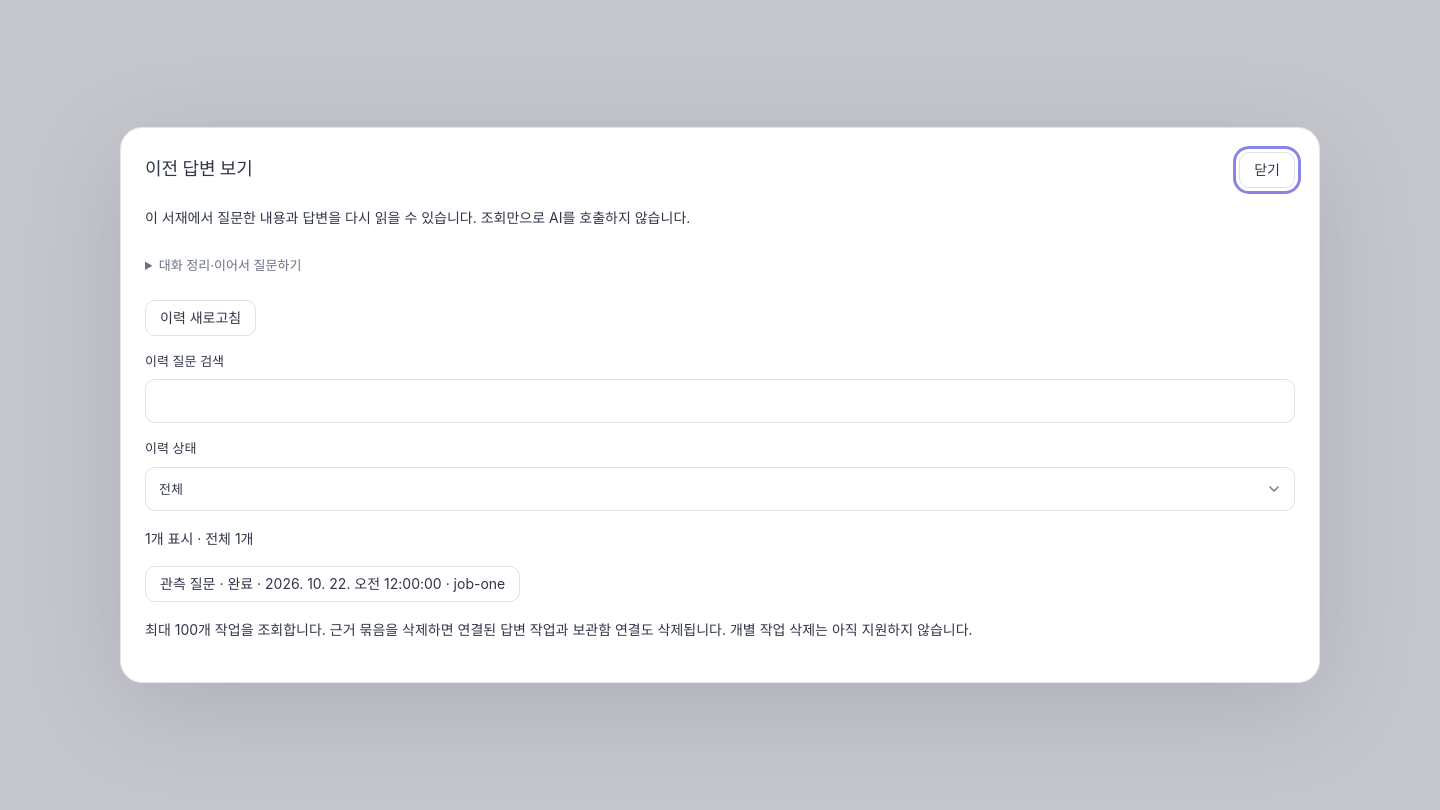
Scenario: 상세 조회 중 삭제되면 이전 답변을 지우고 오류를 표시한다
Click the button "관측 질문 · 완료". click: (333,584)
box: [145,566,520,602]
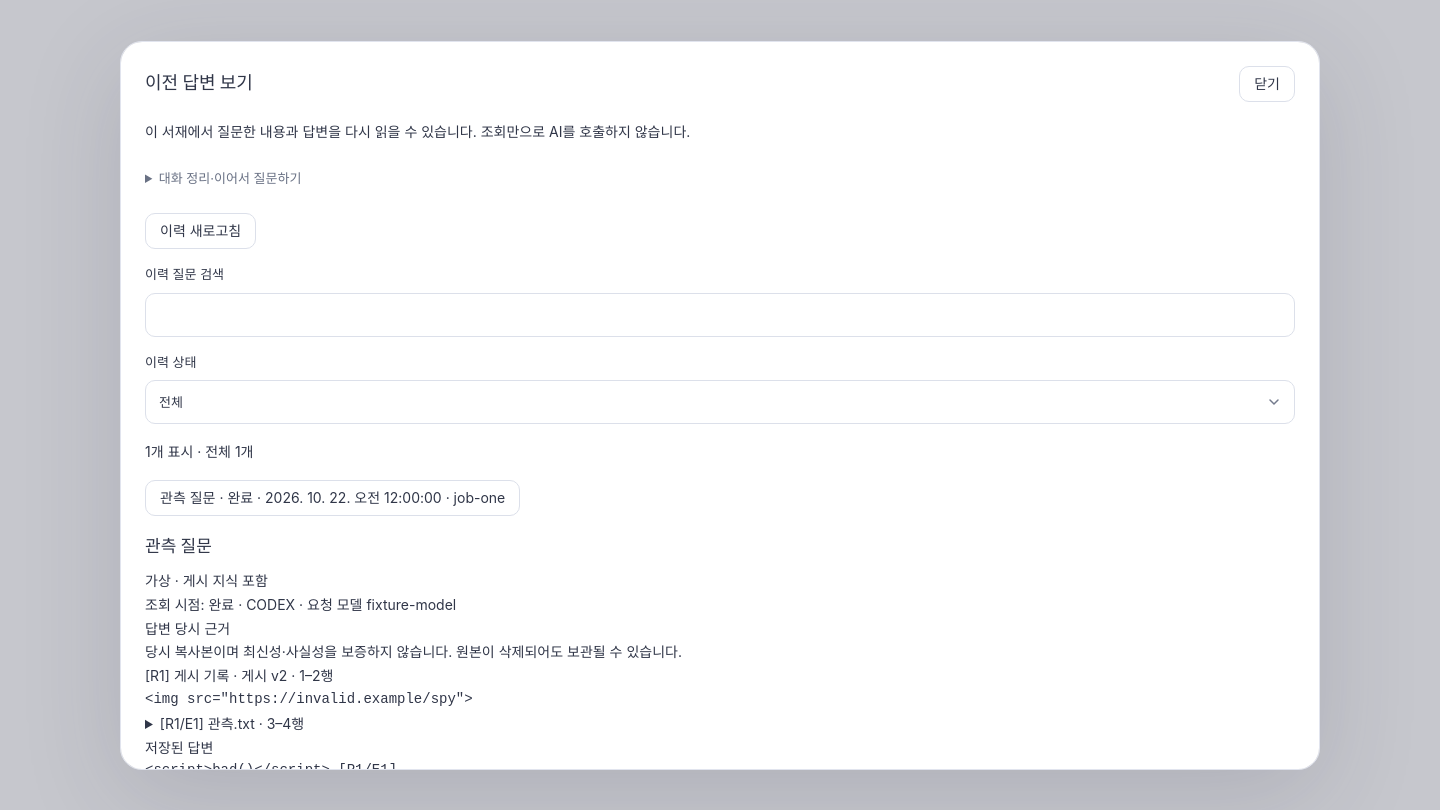
Click the button "관측 질문 · 완료". click: (333,498)
box: [145,480,520,516]
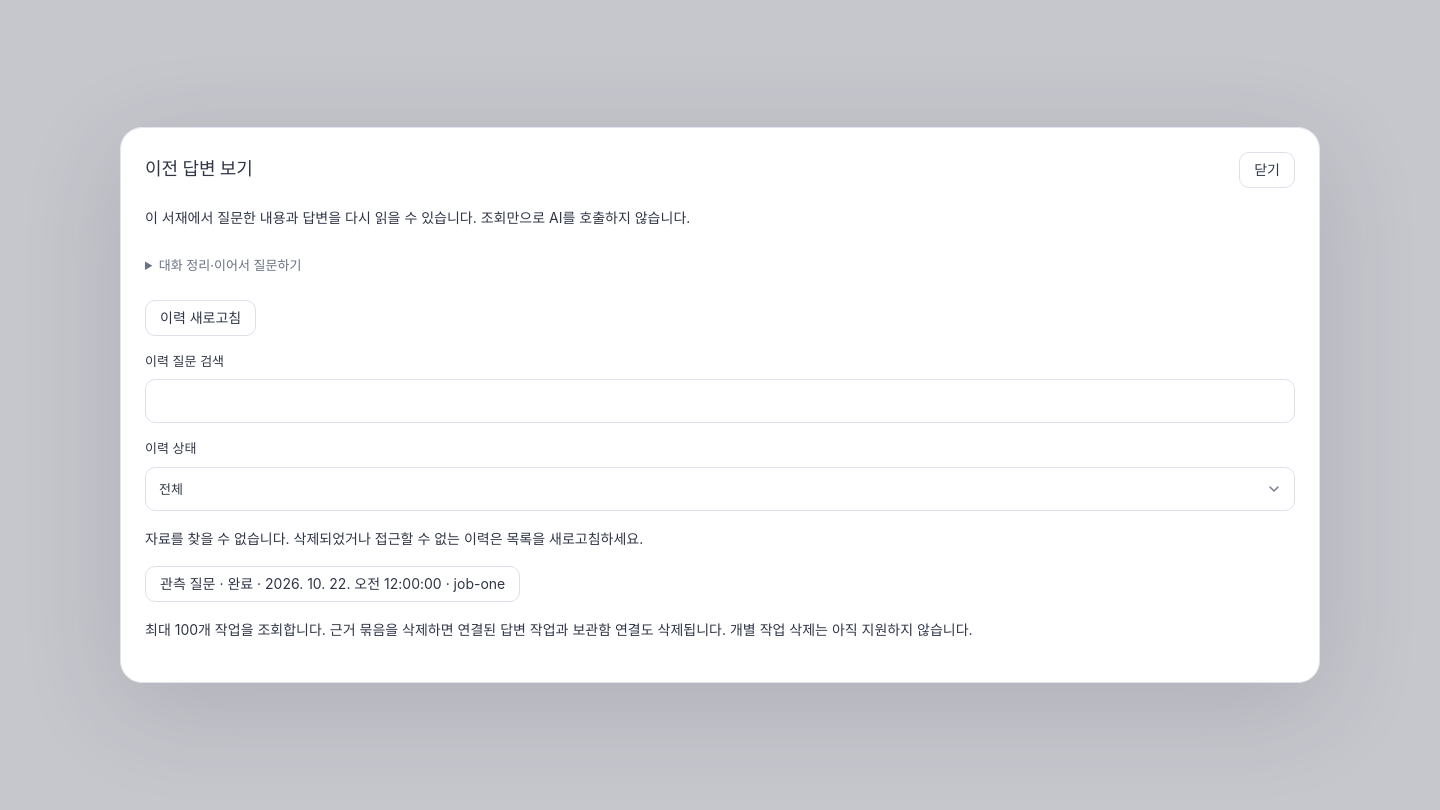
Expected: the message shows "자료를 찾을 수 없습니다.", [145,530,290,547]
